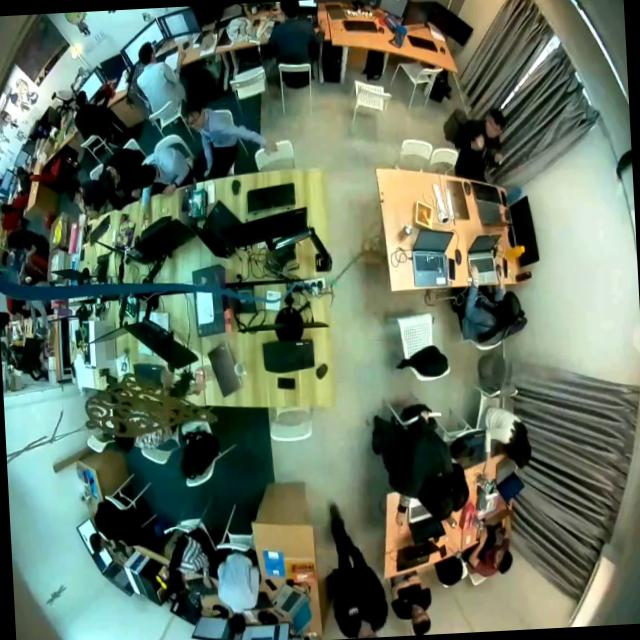employee_tag: (348, 606, 360, 616)
